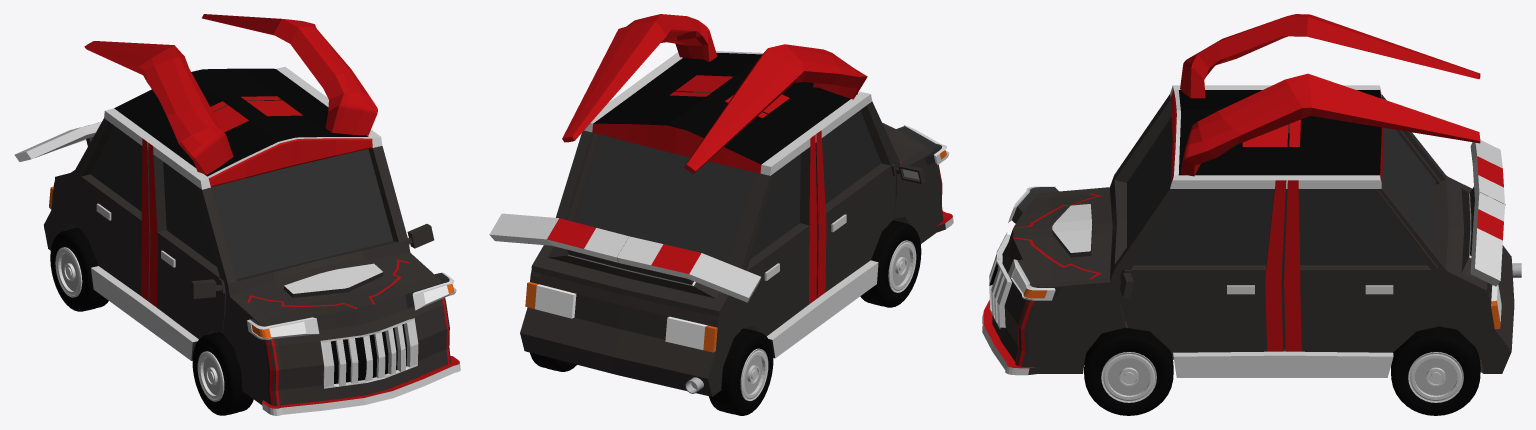
3 renders of one model, left to right at view 1: azimuth 30°, elevation 25°; view 2: azimuth 150°, elevation 25°; view 3: azimuth 270°, elevation 25°, orthographic. The views are drawn at different scales.
Parts seen in each view (by area): view 1: BODY39B, WHEEL.001, WHEEL.004; view 2: BODY39B, WHEEL.004, WHEEL.001, WHEEL.002; view 3: BODY39B, WHEEL.002, WHEEL.003.
Boxes of the visible parts, left/top/right/bottom form: BODY39B: left=14, top=14, right=460, bottom=415; WHEEL.001: left=192, top=332, right=253, bottom=415; WHEEL.004: left=50, top=227, right=108, bottom=311; BODY39B: left=489, top=14, right=953, bottom=396; WHEEL.004: left=709, top=328, right=773, bottom=415; WHEEL.001: left=860, top=220, right=921, bottom=307; WHEEL.002: left=530, top=352, right=576, bottom=371; BODY39B: left=982, top=14, right=1514, bottom=377; WHEEL.002: left=1391, top=326, right=1480, bottom=415; WHEEL.003: left=1084, top=327, right=1173, bottom=415.
Bounding box in the file's own units: 135 × 154 × 235.
